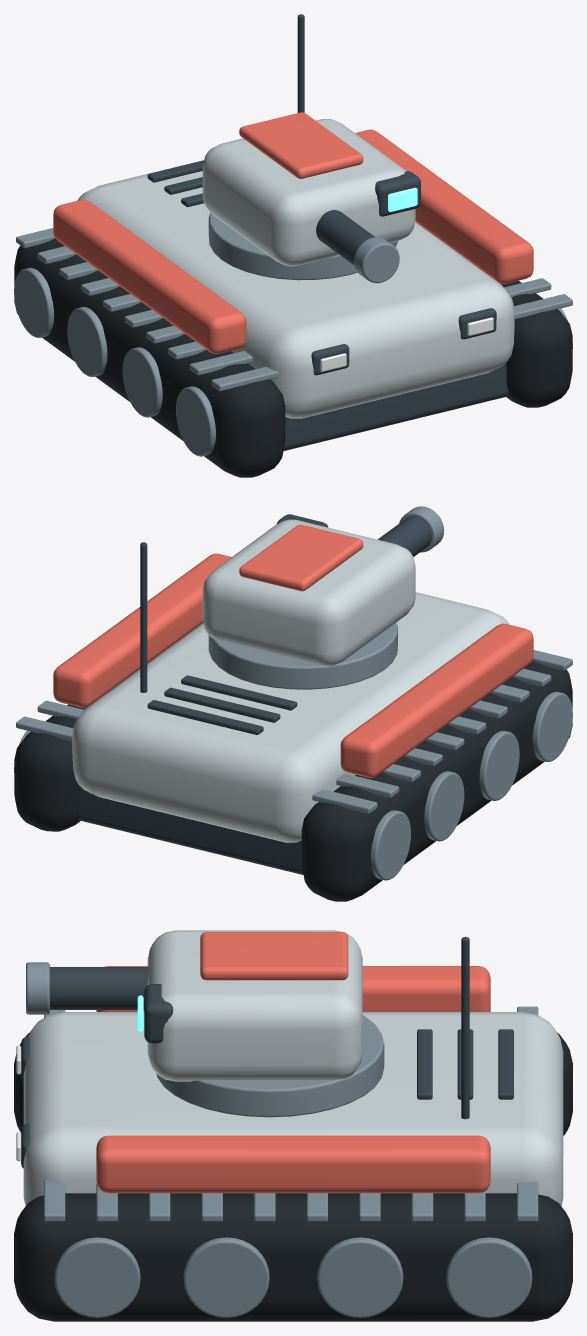
File: infantry.fbx
The picture shows the model from 3 angles, top to bottom: view 1: azimuth 30°, elevation 25°; view 2: azimuth 150°, elevation 25°; view 3: azimuth 270°, elevation 25°; orthographic projection. The views are drawn at different scales.
Parts seen in each view (by area): view 1: Armoured hull, Continuous rubber track, Unmanned turret, Team side armour, Team side armour.001, Lower chassis, Continuous rubber track.001, Team turret roof, Turret bearing, Road wheel.002, Road wheel.001, Road wheel (+11 smaller); view 2: Armoured hull, Unmanned turret, Continuous rubber track, Team side armour, Team side armour.001, Lower chassis, Turret bearing, Continuous rubber track.001, Team turret roof, Road wheel.001, Road wheel.002, Road wheel (+12 smaller); view 3: Armoured hull, Continuous rubber track.001, Unmanned turret, Team side armour.001, Turret bearing, Team turret roof, Team side armour, Road wheel.004, Road wheel.005, Road wheel.006, Road wheel.007, Mission module (+17 smaller).
Part boxes in pixels (x1,y1,x2,y2): Armoured hull: (77,160,514,418); Continuous rubber track: (14,238,285,477); Unmanned turret: (202,119,415,266); Team side armour: (53,199,246,353); Team side armour.001: (355,129,533,283); Lower chassis: (283,363,508,450); Continuous rubber track.001: (499,280,572,407); Team turret roof: (239,112,363,178); Turret bearing: (208,213,397,280); Road wheel.002: (67,306,107,376); Road wheel.001: (122,347,162,417); Road wheel: (176,386,215,456); Armoured hull: (72,592,509,842); Unmanned turret: (202,519,415,666); Continuous rubber track: (301,660,572,901); Team side armour: (340,623,533,777); Team side armour.001: (53,553,231,707); Lower chassis: (78,787,303,874); Turret bearing: (208,622,397,689); Continuous rubber track.001: (14,704,87,831); Team turret roof: (239,524,363,591); Road wheel.001: (479,730,519,800); Road wheel.002: (424,771,464,841); Road wheel: (532,691,572,761); Armoured hull: (23,1012,563,1205); Continuous rubber track.001: (14,1193,572,1321); Unmanned turret: (147,930,362,1081); Team side armour.001: (96,1135,490,1193); Turret bearing: (156,1015,384,1117); Team turret roof: (200,932,348,980); Team side armour: (96,966,490,1011); Road wheel.004: (54,1237,140,1317); Road wheel.005: (183,1237,269,1317); Road wheel.006: (317,1237,403,1317); Road wheel.007: (446,1237,532,1317); Mission module: (50,967,149,1009).
Bounding box in the file's own units: 212 × 157 × 234.
